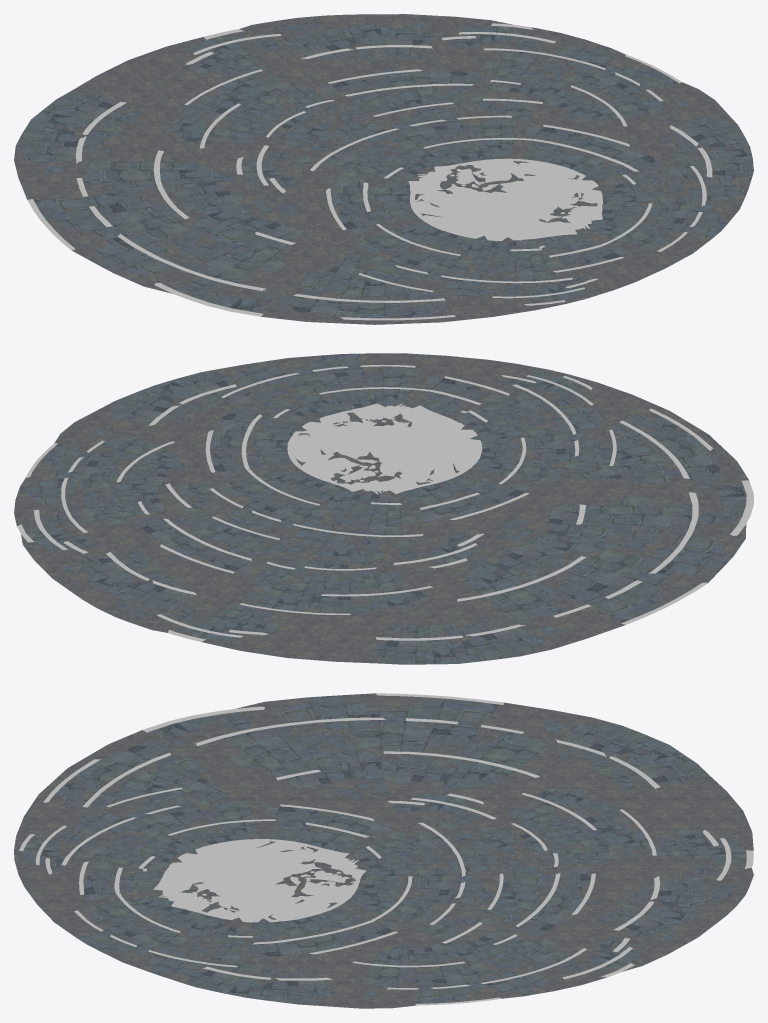
Rendered from Area_Md_Build_WD_Platform_01.fbx.
3 views of the same model, one above another, from view 1: azimuth 30°, elevation 25°; view 2: azimuth 150°, elevation 25°; view 3: azimuth 270°, elevation 25° (orthographic).
Visible parts, largest first — view 1: Area_Md_Build_WD_Platform_01_Lod0; view 2: Area_Md_Build_WD_Platform_01_Lod0; view 3: Area_Md_Build_WD_Platform_01_Lod0.
Part boxes in pixels (x1,y1,x2,y2): Area_Md_Build_WD_Platform_01_Lod0: (14,14,753,324); Area_Md_Build_WD_Platform_01_Lod0: (14,353,753,664); Area_Md_Build_WD_Platform_01_Lod0: (14,693,753,1008).
Size of the model in its own units: 98.27 by 0.0629 by 97.42.
